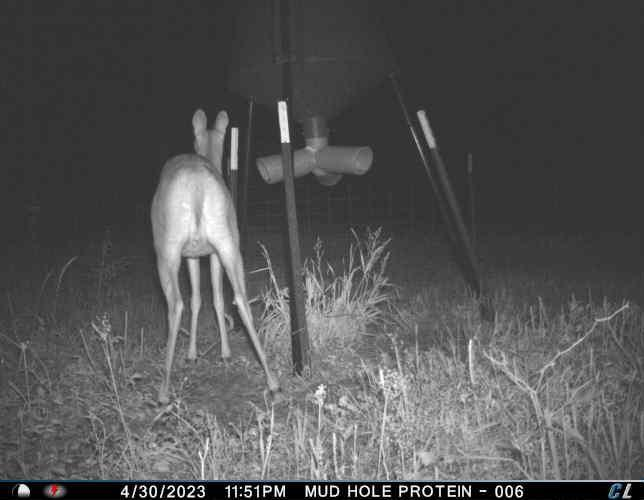Deer: (148, 104, 285, 408)
